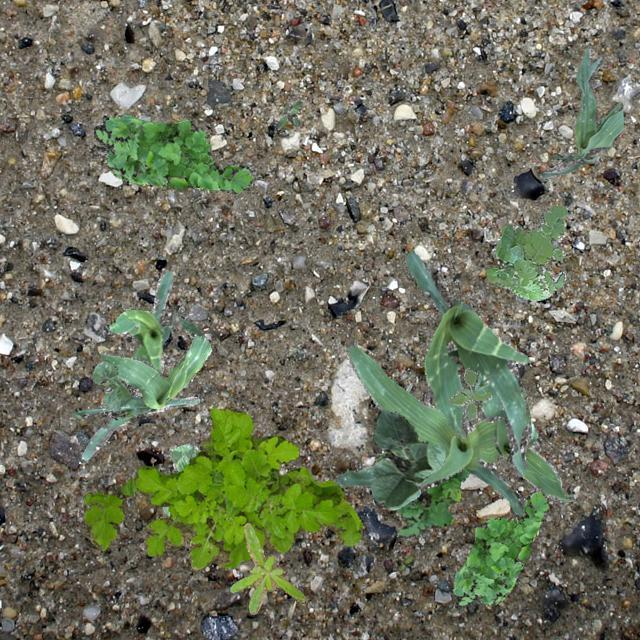crop: (334, 344, 536, 514), (405, 250, 529, 474), (80, 271, 174, 458), (72, 306, 210, 418), (538, 46, 622, 178), (370, 409, 444, 508), (494, 414, 574, 502), (161, 442, 199, 516), (92, 361, 120, 412)
weed: (82, 406, 362, 568), (92, 114, 256, 192), (452, 486, 548, 606), (374, 450, 469, 538), (484, 202, 566, 300), (228, 522, 304, 614), (448, 366, 490, 419), (276, 100, 300, 128)
